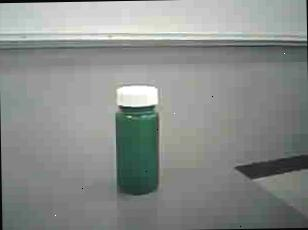Bottle C: (103, 80, 177, 202)
